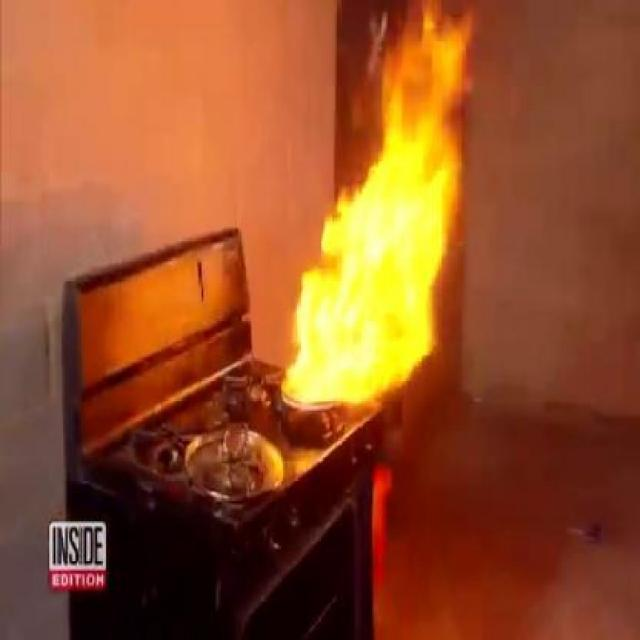fire: (286, 90, 452, 416)
